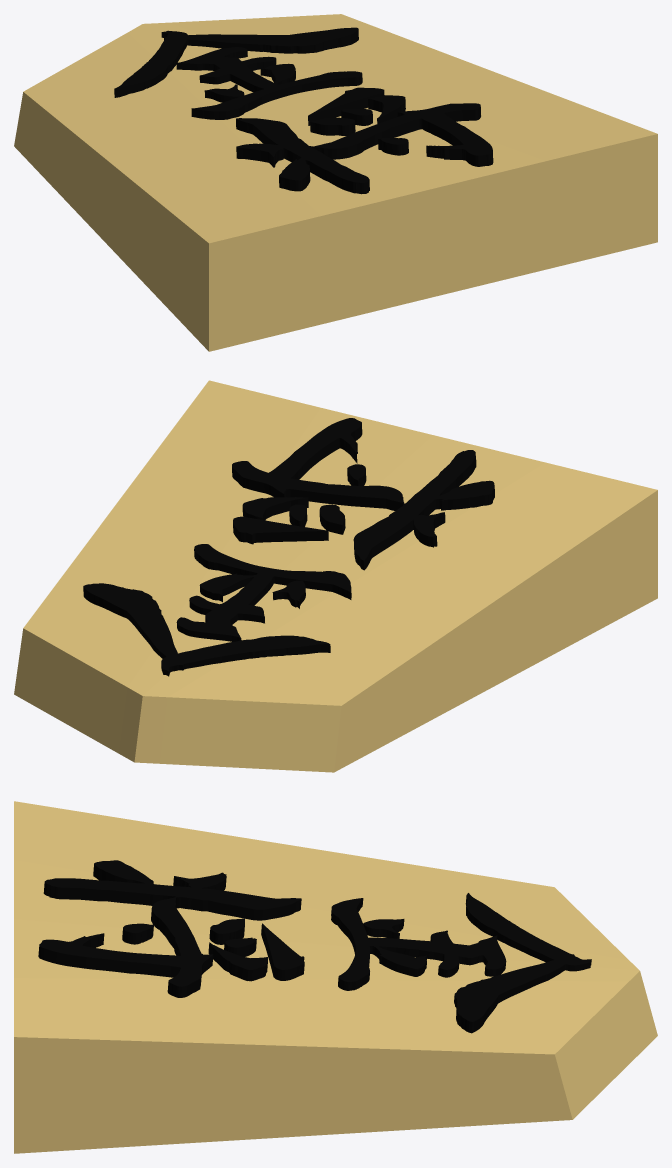
The model's file is GeneralDor.fbx.
The picture shows the model from 3 angles, top to bottom: view 1: azimuth 30°, elevation 25°; view 2: azimuth 150°, elevation 25°; view 3: azimuth 270°, elevation 25°; orthographic projection. The views are drawn at different scales.
Visible parts, largest first — view 1: GeneralDor; view 2: GeneralDor; view 3: GeneralDor.
Part boxes in pixels (left/top/right/bottom): GeneralDor: left=14, top=14, right=657, bottom=351; GeneralDor: left=14, top=380, right=657, bottom=772; GeneralDor: left=14, top=801, right=657, bottom=1153.
Size of the model in its own units: 63.4 by 15.86 by 73.15.
